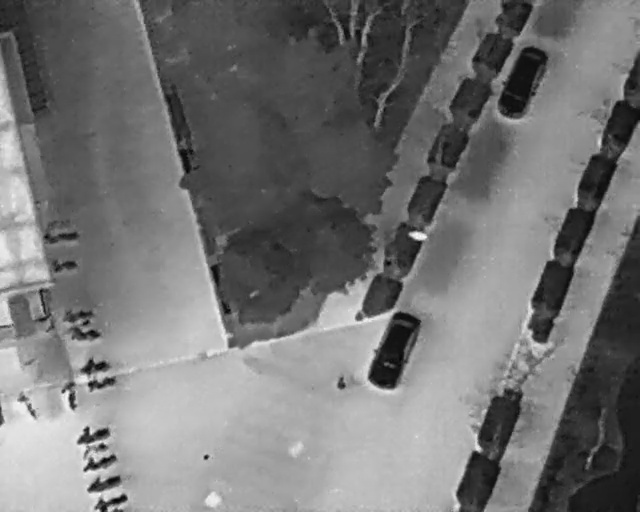Bicycle: (72, 419, 113, 449), (82, 469, 125, 496), (78, 449, 119, 475), (14, 388, 44, 423), (55, 378, 81, 414), (76, 355, 113, 378), (78, 436, 112, 459), (41, 227, 79, 246), (84, 373, 118, 392), (91, 493, 129, 510), (61, 305, 96, 323), (68, 325, 102, 343), (48, 257, 80, 274)
Car: (361, 305, 427, 396), (489, 41, 552, 126)
